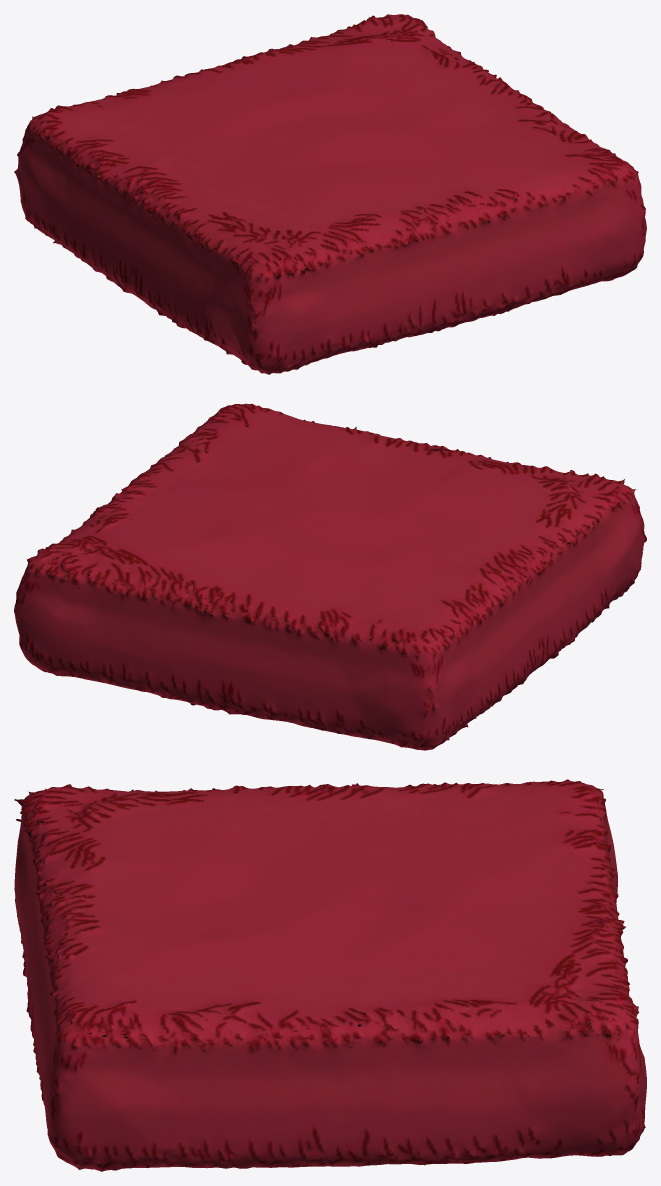
Rendered from Red_square_Rug.glb.
3 renders of one model, top to bottom at view 1: azimuth 30°, elevation 25°; view 2: azimuth 150°, elevation 25°; view 3: azimuth 270°, elevation 25°, orthographic. The views are drawn at different scales.
Visible parts, largest first — view 1: RETOPO; view 2: RETOPO; view 3: RETOPO.
Boxes of the visible parts, bbox=[...] form: RETOPO: bbox=[14, 14, 646, 374]; RETOPO: bbox=[14, 403, 646, 750]; RETOPO: bbox=[14, 779, 646, 1171].
Bounding box in the file's own units: 0.9826 × 0.2727 × 0.9797.
Materials: 1 (1 with a texture image).
